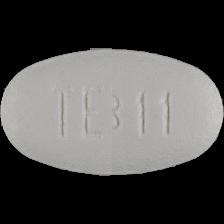0172-5311: (0, 0, 224, 224)
